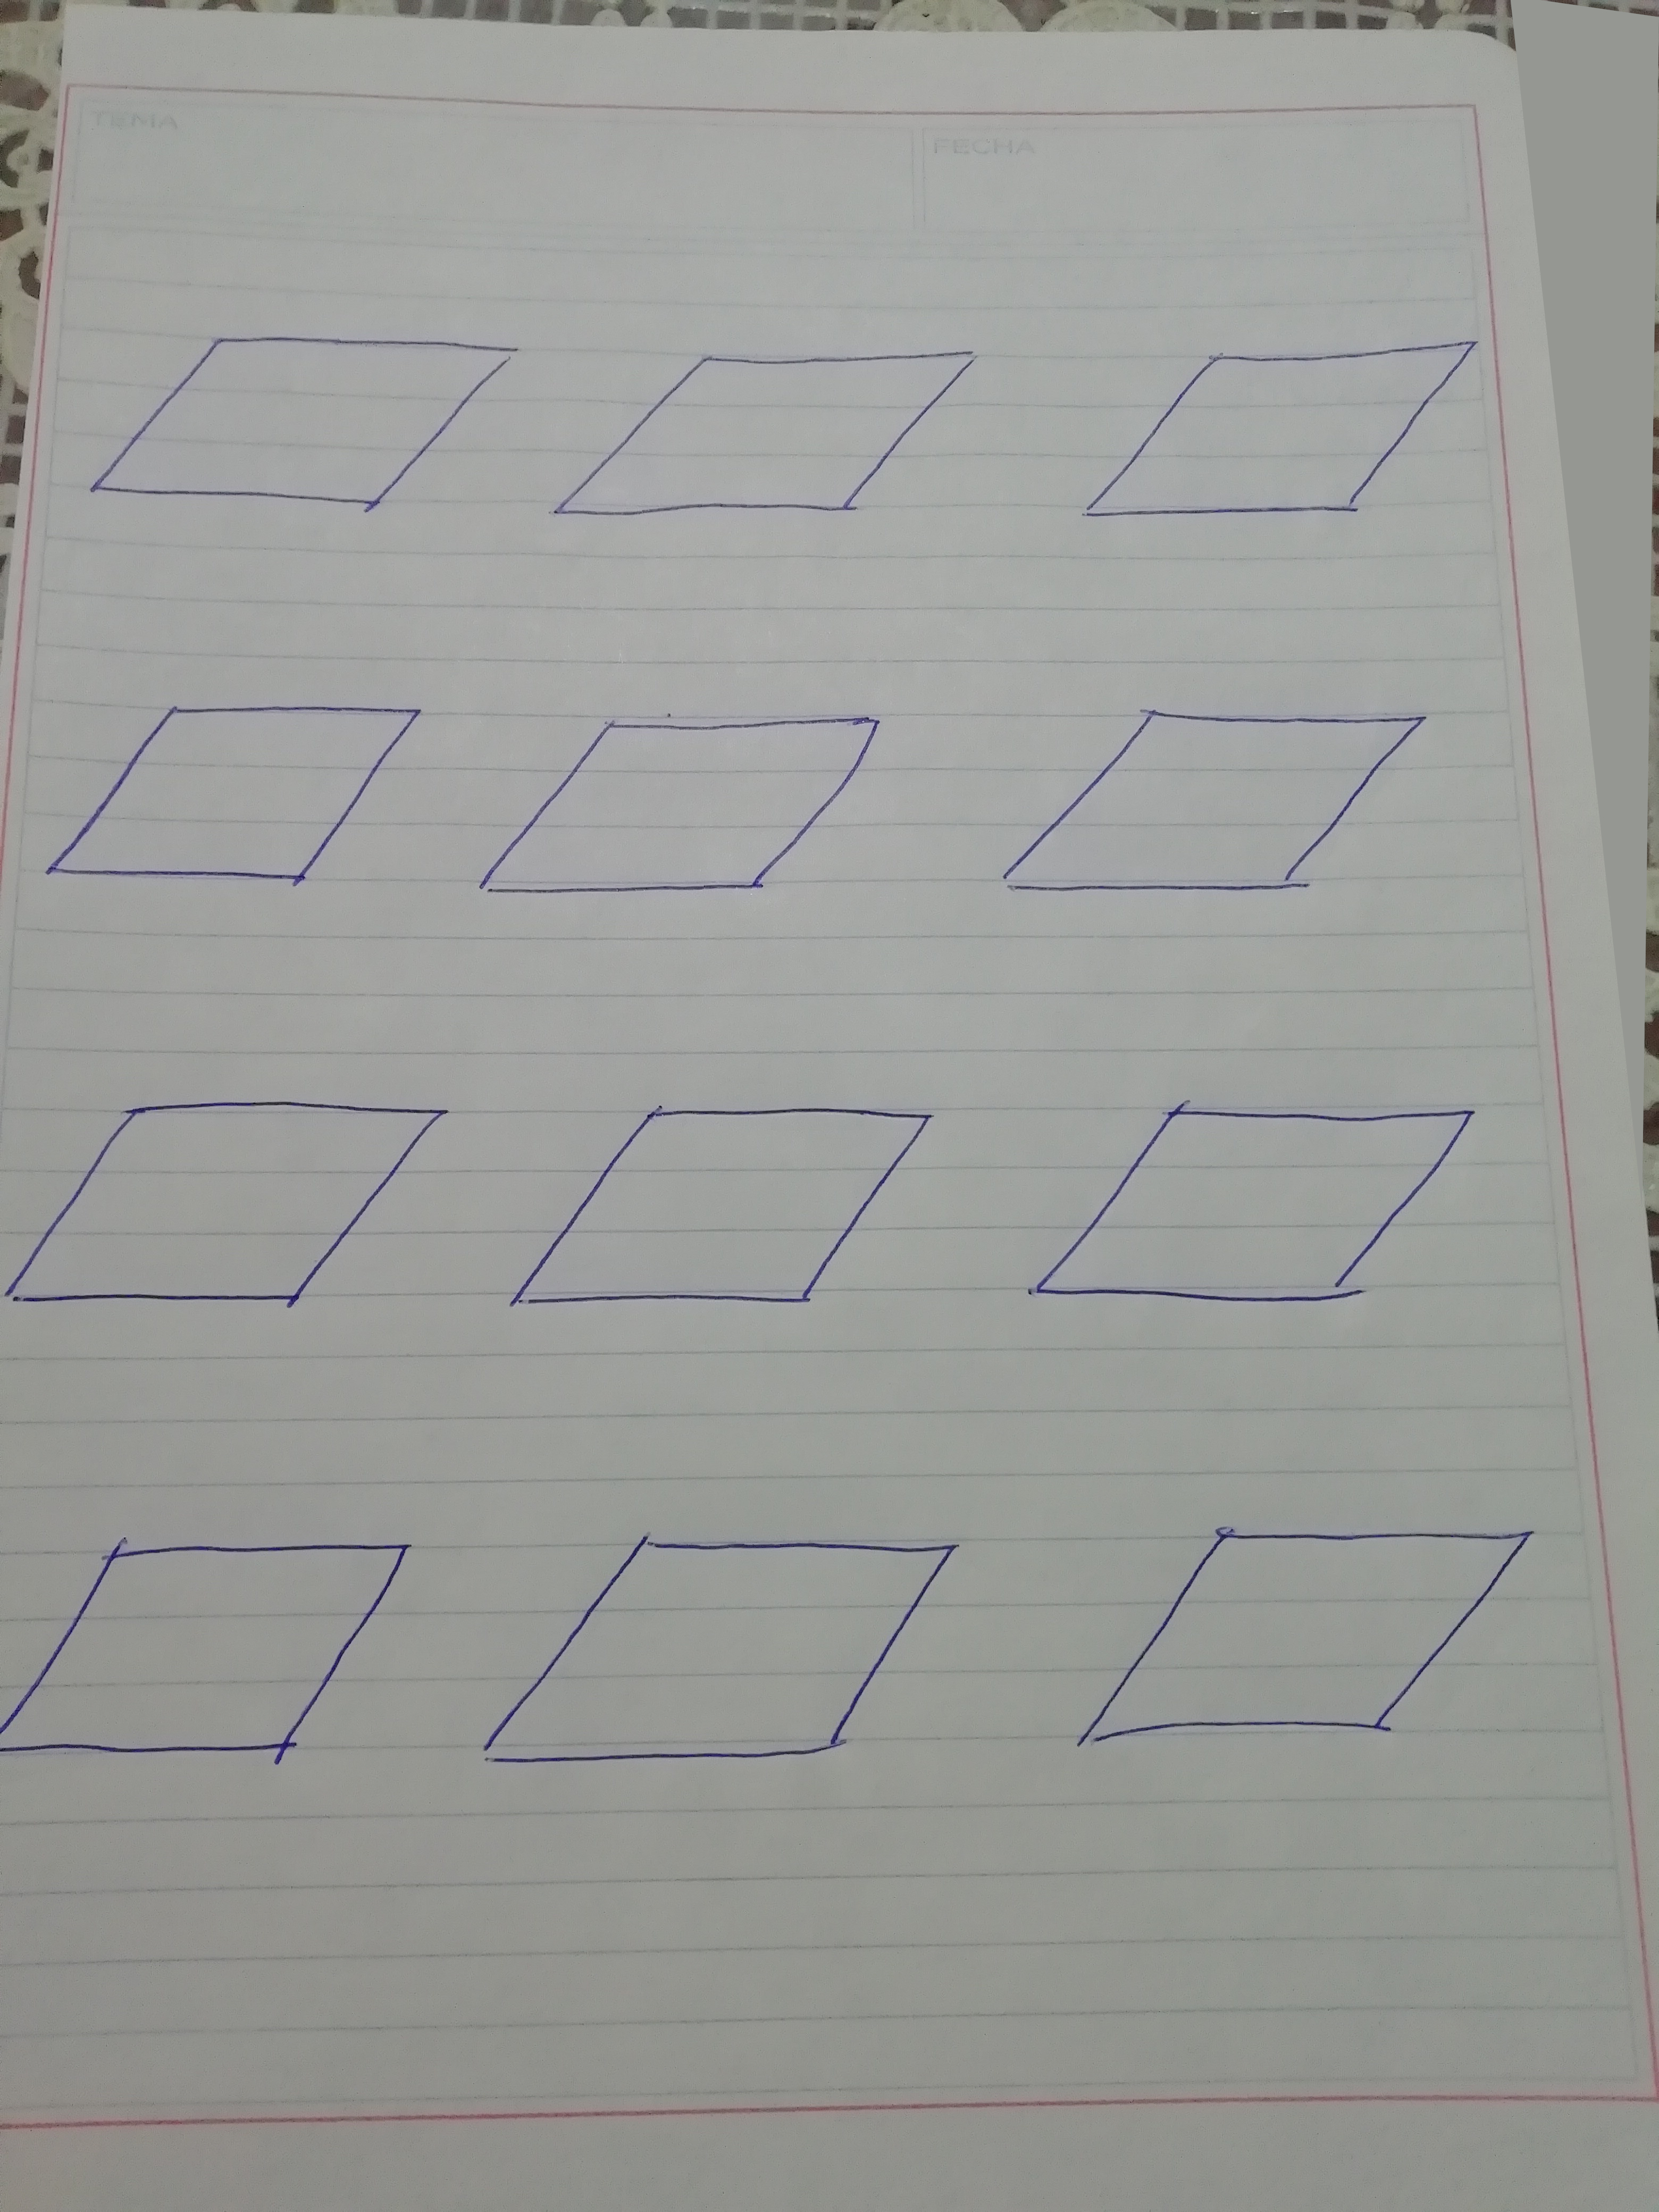scan: (458, 1507, 997, 1797), (1044, 1503, 1593, 1784), (997, 1064, 1527, 1346), (0, 1049, 465, 1357), (544, 319, 1016, 606), (484, 1059, 955, 1346), (77, 298, 540, 582), (0, 1507, 430, 1808), (976, 667, 1466, 928), (455, 685, 913, 946), (16, 667, 441, 942), (1068, 319, 1507, 545)
